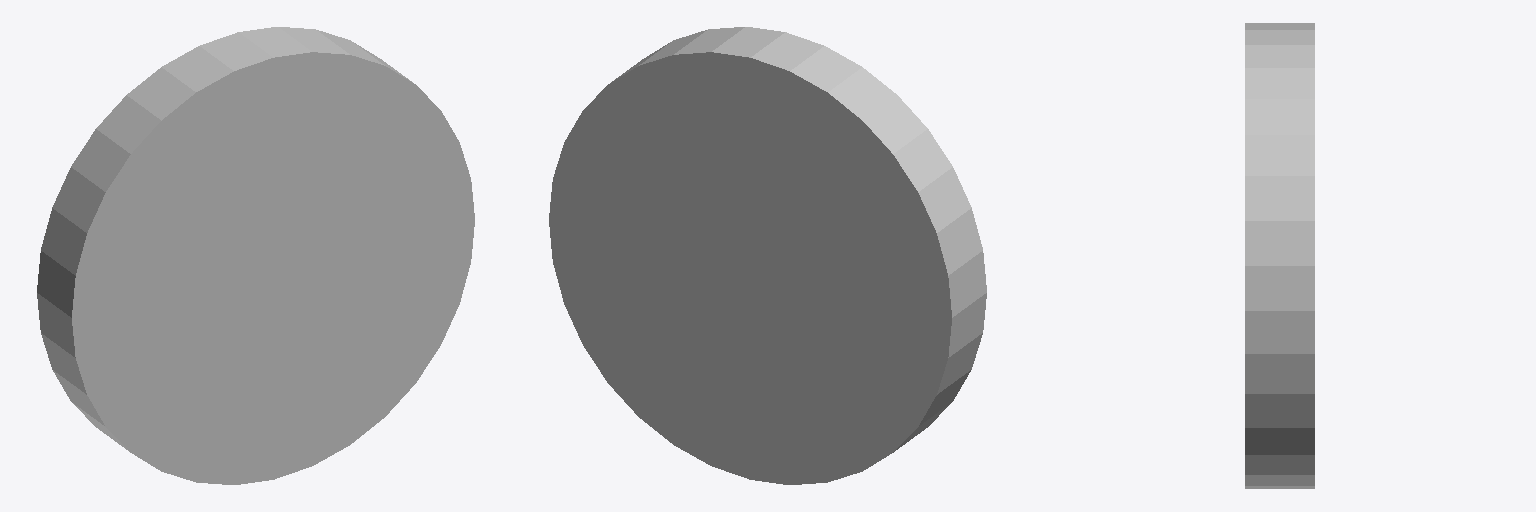
The model's file is coin_low.obj.
The picture shows the model from 3 angles: view 1: azimuth 30°, elevation 25°; view 2: azimuth 150°, elevation 25°; view 3: azimuth 270°, elevation 25°; orthographic projection.
Parts seen in each view (by area): view 1: Mesh Mesh; view 2: Mesh Mesh; view 3: Mesh Mesh.
Boxes of the visible parts, <box> form: Mesh Mesh: <box>37,27,474,484</box>; Mesh Mesh: <box>549,27,986,484</box>; Mesh Mesh: <box>1245,23,1314,488</box>.
Size of the model in its own units: 0.9449 by 0.9449 by 0.1417.